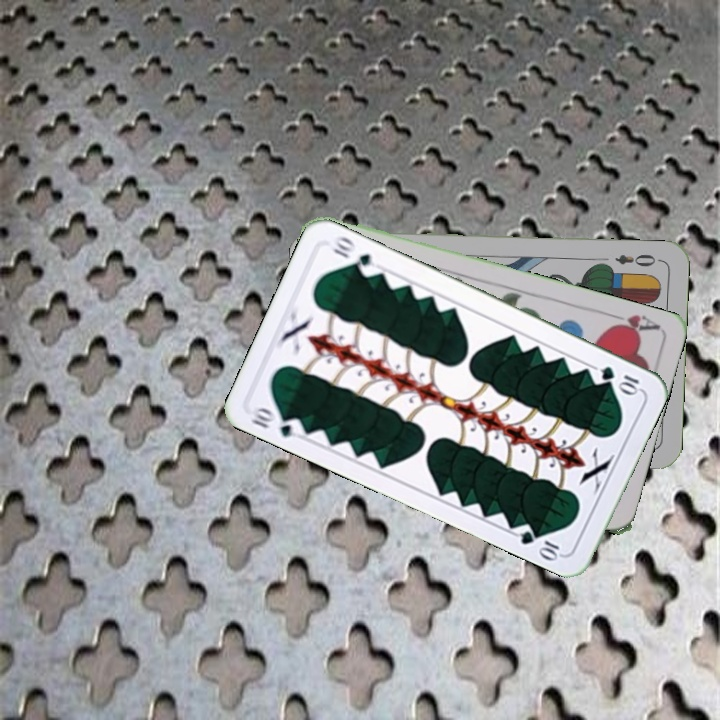EO: (611, 250, 663, 270)
G10: (247, 402, 306, 440), (596, 362, 643, 397)
HA: (603, 309, 662, 338)
